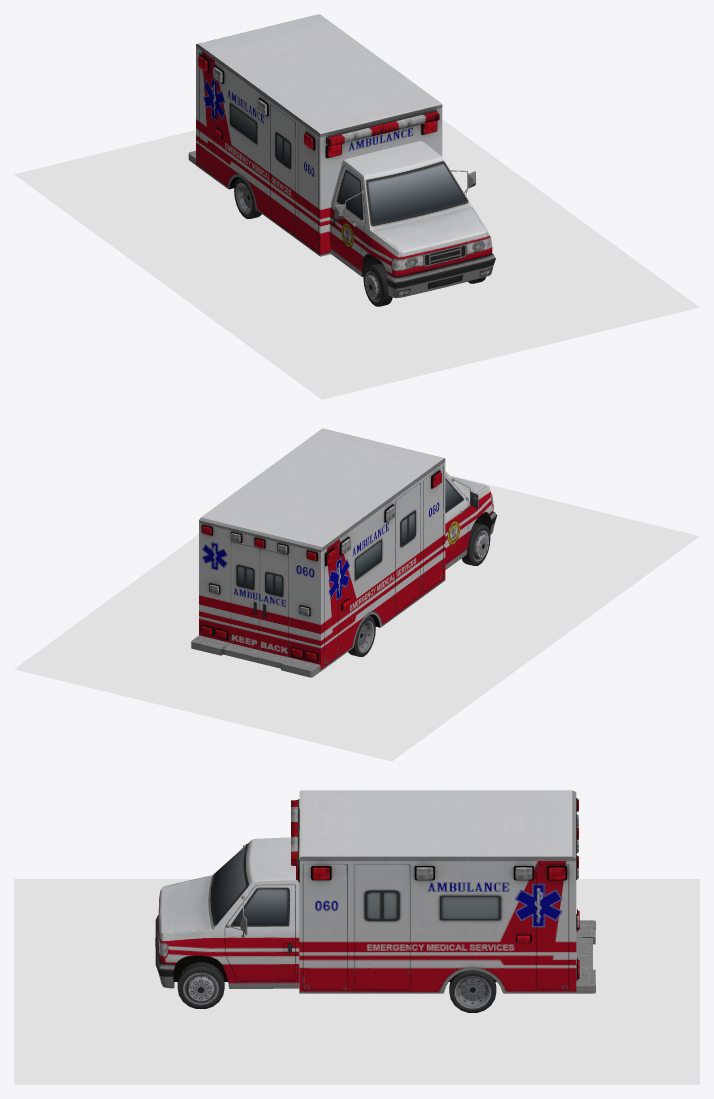
3 views of the same model, one above another, from view 1: azimuth 30°, elevation 25°; view 2: azimuth 150°, elevation 25°; view 3: azimuth 270°, elevation 25° (orthographic). The views are drawn at different scales.
Visible parts, largest first — view 1: shd, amulans_Material #84_0; view 2: shd, amulans_Material #84_0, Object002_Material #84_0, Object006_Material #84_0; view 3: shd, amulans_Material #84_0.
Part boxes in pixels (<box>): shd: <box>14,119,699,399</box>; amulans_Material #84_0: <box>188,14,495,306</box>; shd: <box>14,475,699,761</box>; amulans_Material #84_0: <box>191,428,497,677</box>; Object002_Material #84_0: <box>231,541,259,649</box>; Object006_Material #84_0: <box>260,548,288,656</box>; shd: <box>14,879,699,1084</box>; amulans_Material #84_0: <box>155,790,595,1012</box>.
Size of the model in its own units: 7.43 by 2.66 by 10.49.
3 materials, 2 textured.
